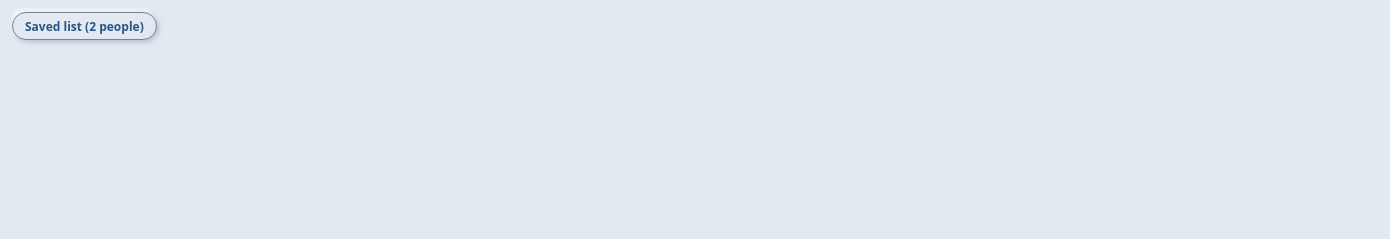
Scenario: removing an address › saves the rest, tells the page the list that applies, and says what was done
Click the button "Saved list (2 people)" at [84, 26], box 12,12 -> 157,40
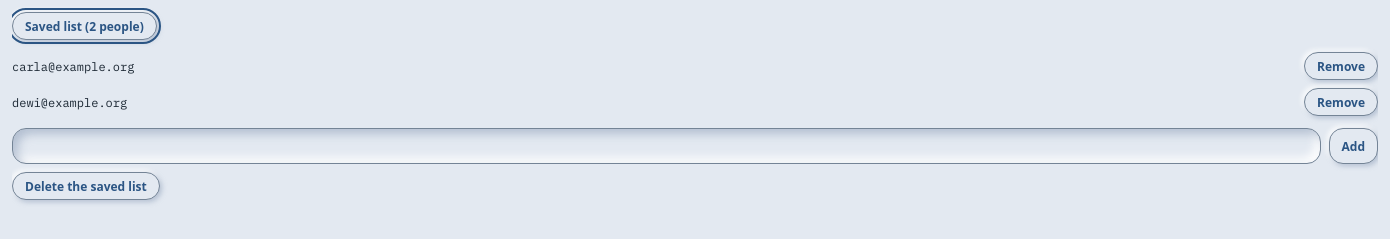
Click the button with aria-label "Remove carla@example.org from the saved list" at [1341, 66], box 1304,52 -> 1378,80
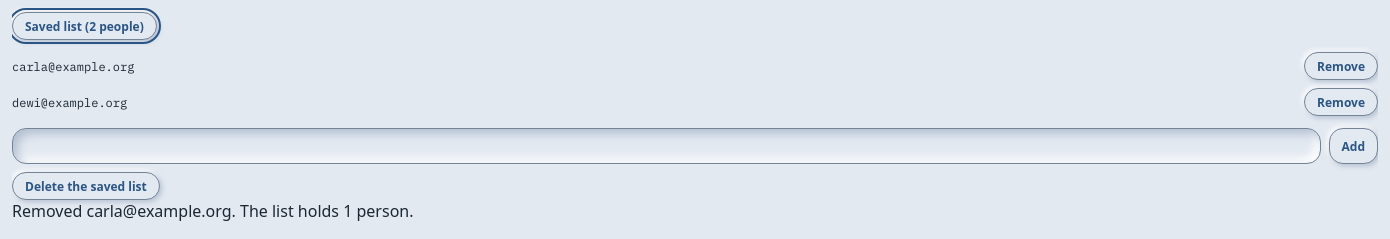
Expected: the message reads "Removed carla@example.org. The list holds 1 person.", 12,200 -> 414,222
